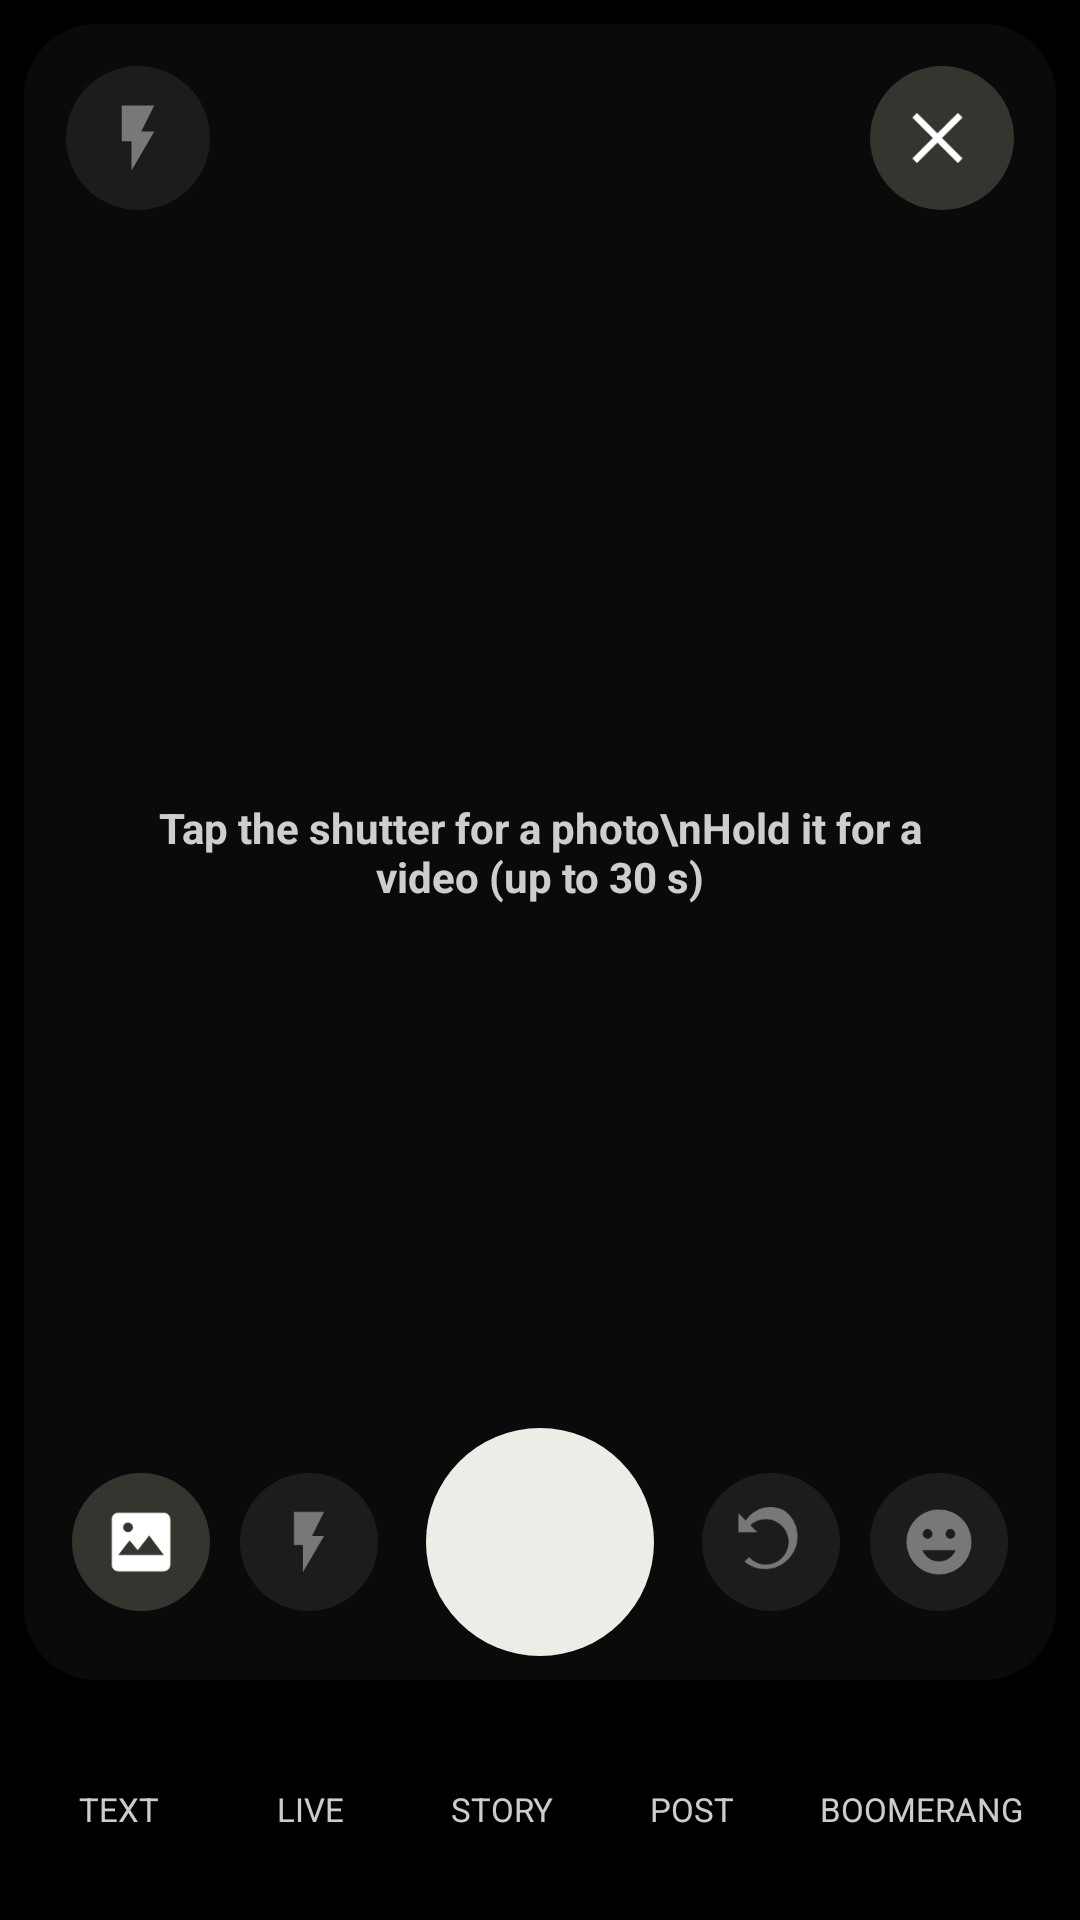

Named icons in this screenshot (1080×1920) and their centers, point (x, y):
Close: point (942, 138)
Effects: point (939, 1542)
Flash: point (138, 138), point (309, 1541)
Gallery: point (141, 1542)
Switch camera: point (771, 1542)
